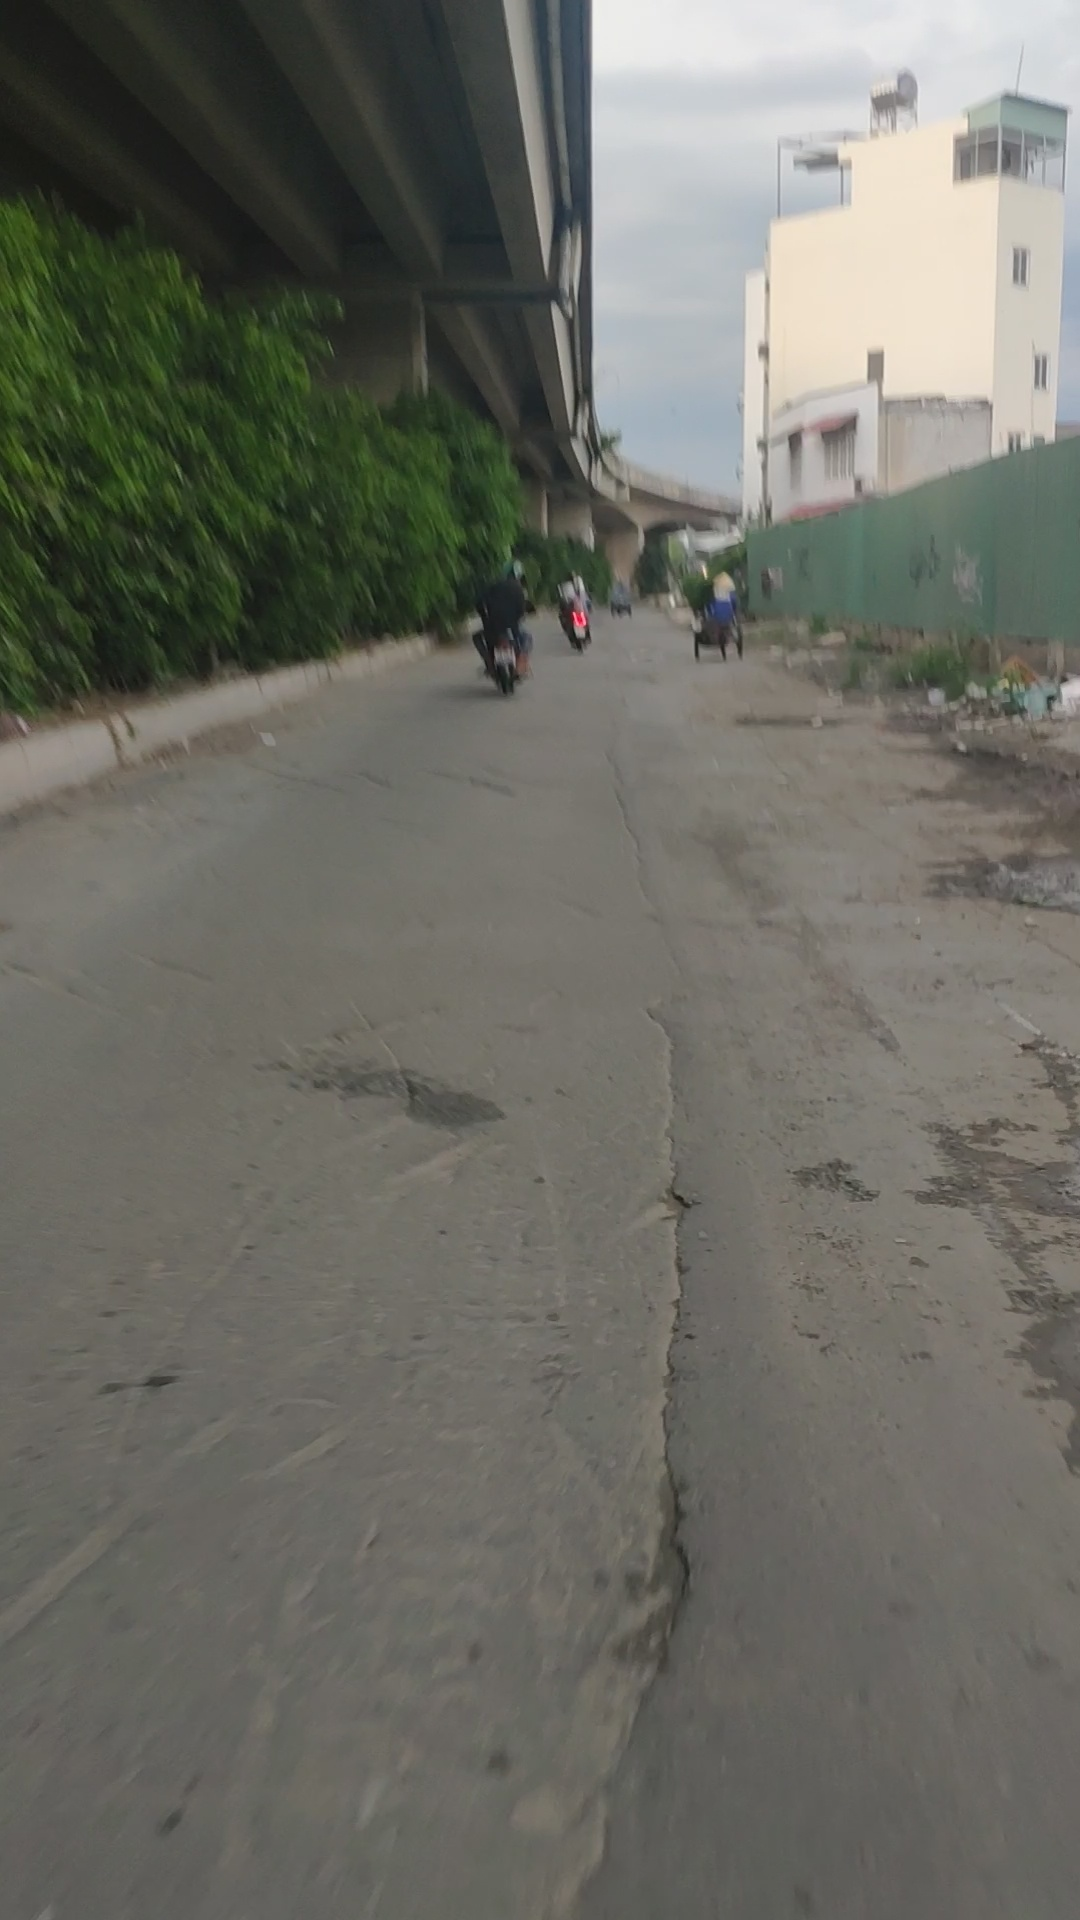hole: (645, 1176, 719, 1226)
